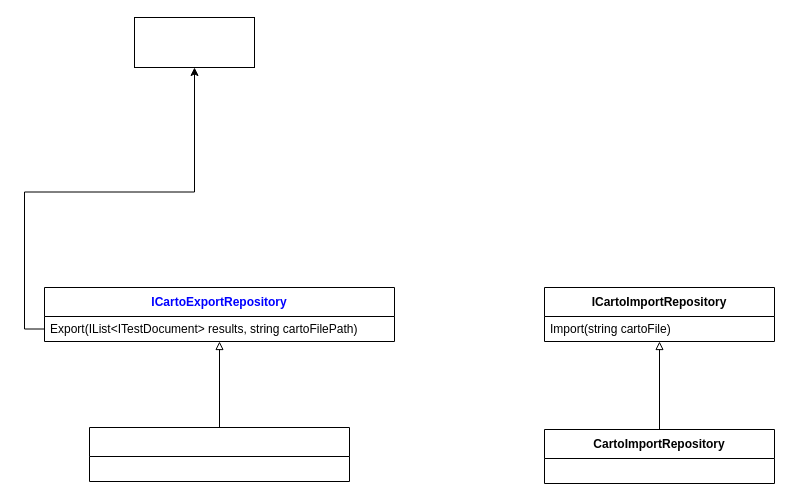
This 792x501 diagram has some shape labels left out. The centre of each missing label's shape, as x and y in pixels:
"CartoExportRepository" belongs at [219,454].
"ITestDocument" belongs at [194,42].
